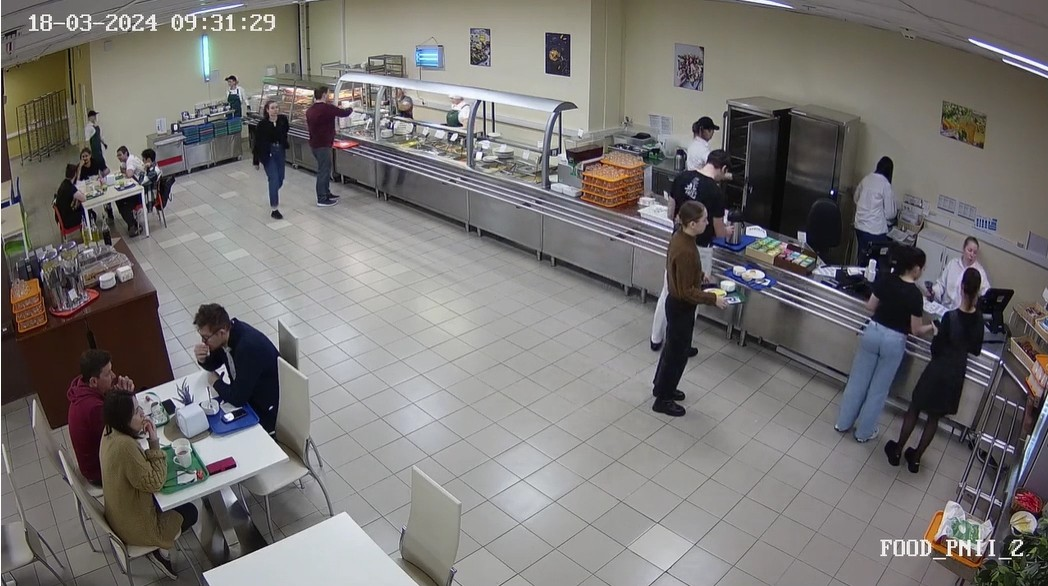Na_Kasse: (764, 231, 946, 462), (842, 258, 1002, 472)
Personal: (843, 151, 901, 252), (434, 82, 477, 137), (217, 65, 253, 118), (685, 110, 715, 169), (82, 102, 114, 156), (950, 228, 989, 268)
Vybiraet: (650, 198, 724, 417), (304, 76, 356, 214), (248, 93, 296, 227), (654, 142, 739, 202)
Za_Stolom: (193, 301, 303, 439), (103, 384, 179, 553), (55, 344, 128, 482), (42, 167, 87, 233), (133, 146, 169, 217), (66, 144, 113, 182), (115, 140, 139, 194)
